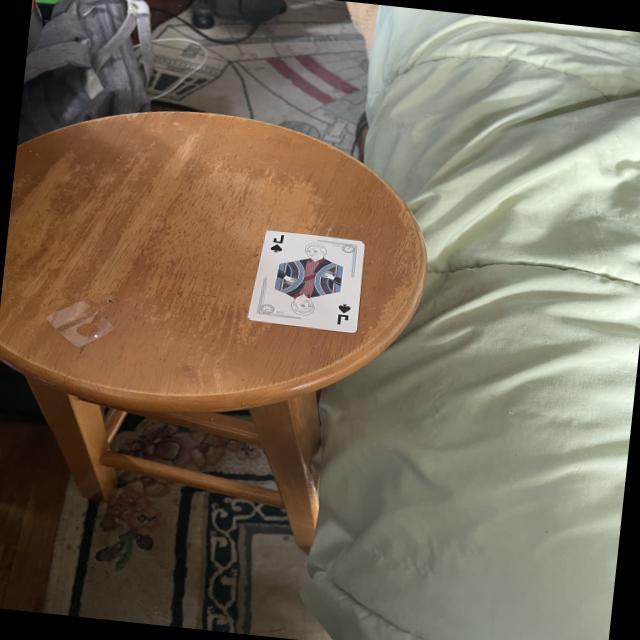Jack of spades: (249, 230, 361, 329)
